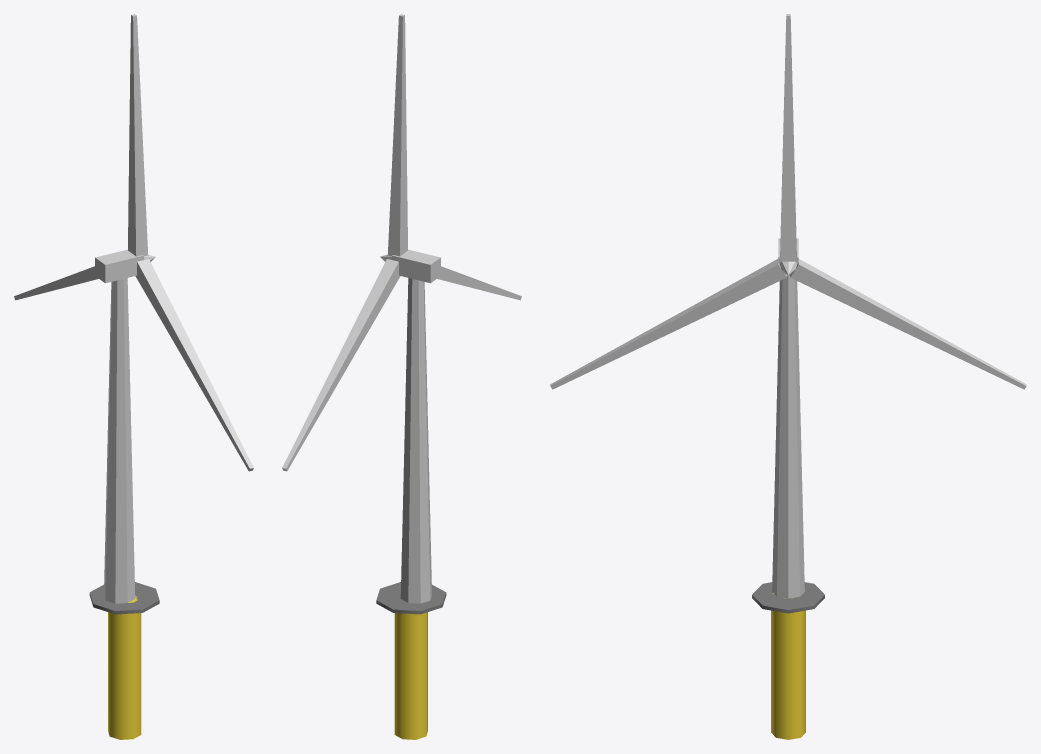
Rendered from top-prebuilt_far.fbx.
3 renders of one model, left to right at view 1: azimuth 30°, elevation 25°; view 2: azimuth 150°, elevation 25°; view 3: azimuth 270°, elevation 25°, orthographic.
Visible parts, largest first — view 1: a1071/0/top-prebuilt_far; view 2: a1071/0/top-prebuilt_far; view 3: a1071/0/top-prebuilt_far.
Part boxes in pixels (<box>): a1071/0/top-prebuilt_far: <box>14,14,253,739</box>; a1071/0/top-prebuilt_far: <box>282,14,521,739</box>; a1071/0/top-prebuilt_far: <box>550,14,1026,739</box>.
Size of the model in its own units: 9.63 by 105 by 62.6.
